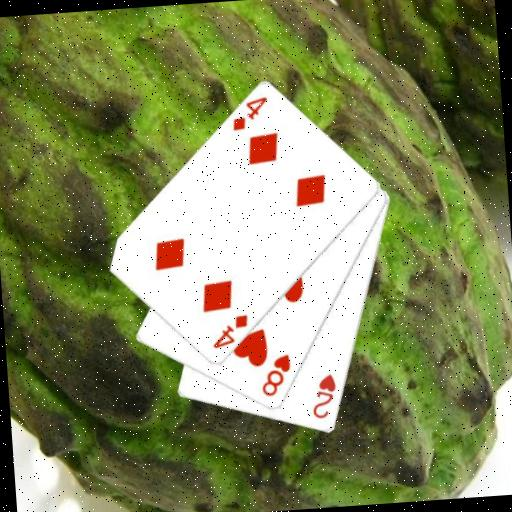2H: (307, 370, 340, 421)
4D: (208, 311, 252, 351), (228, 93, 271, 133)
8H: (257, 352, 295, 400)
